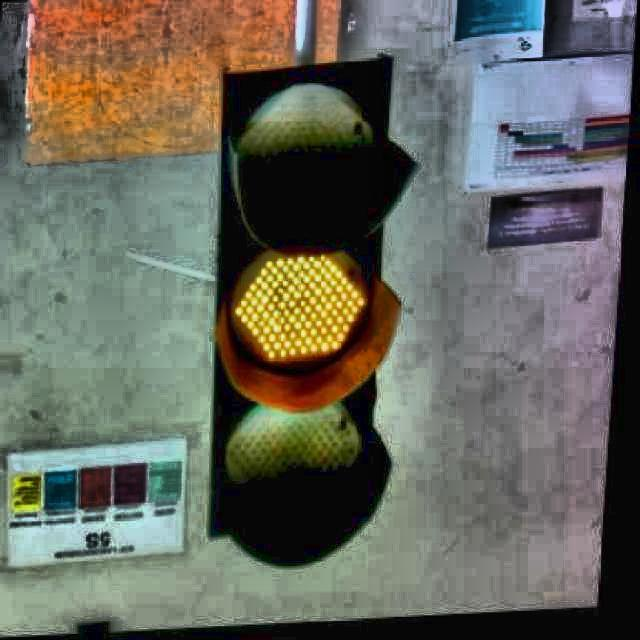yellow: (216, 64, 379, 551)
